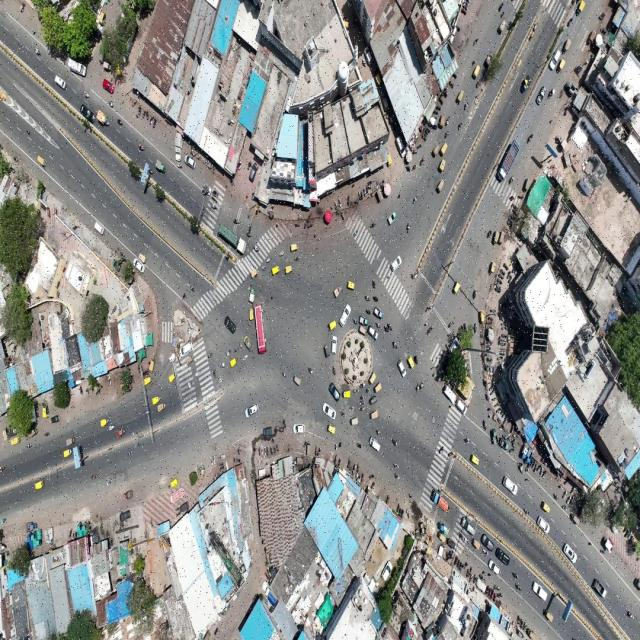3W: (245, 335, 254, 354), (437, 115, 447, 130), (270, 263, 281, 276), (292, 374, 303, 387), (488, 260, 497, 275), (37, 154, 47, 167), (327, 319, 337, 332), (169, 477, 179, 489), (28, 426, 40, 436), (65, 436, 77, 446), (368, 395, 378, 407), (228, 356, 238, 368), (306, 364, 315, 377), (542, 498, 550, 512), (432, 144, 440, 158), (498, 20, 506, 34), (369, 370, 377, 384), (138, 250, 149, 260), (62, 448, 73, 458), (327, 423, 336, 435), (447, 539, 456, 551), (348, 280, 357, 292), (545, 612, 554, 624), (499, 230, 507, 243), (157, 404, 167, 414), (342, 390, 351, 401), (370, 409, 379, 420), (42, 406, 49, 420), (247, 308, 254, 322), (454, 280, 461, 294), (291, 240, 299, 252), (457, 86, 463, 102), (493, 230, 499, 246), (374, 382, 382, 394), (406, 357, 414, 369), (324, 342, 330, 358), (149, 361, 156, 374), (439, 159, 446, 172), (10, 437, 20, 446), (167, 372, 176, 382), (350, 416, 359, 426), (250, 267, 258, 278), (33, 480, 44, 488), (472, 455, 479, 467), (360, 324, 367, 336), (100, 418, 109, 427), (142, 378, 152, 386), (441, 142, 447, 155), (566, 37, 572, 50), (437, 533, 444, 544), (152, 395, 160, 404), (439, 179, 445, 191), (560, 58, 565, 72), (475, 65, 479, 78), (285, 266, 292, 273), (408, 490, 413, 499)
Bus: (253, 306, 268, 354)
Cars: (532, 578, 548, 604), (479, 532, 496, 555), (562, 541, 578, 563), (460, 512, 475, 535), (536, 515, 552, 535), (80, 105, 96, 124), (456, 397, 469, 417), (497, 543, 510, 563), (178, 340, 194, 356), (339, 304, 351, 325), (535, 83, 547, 104), (328, 382, 341, 401), (550, 48, 561, 70), (504, 474, 516, 494), (102, 77, 114, 96), (390, 254, 402, 273), (90, 222, 106, 236), (322, 403, 336, 419), (330, 335, 341, 355), (224, 316, 236, 334), (445, 384, 455, 405), (368, 437, 382, 451), (245, 403, 258, 418), (395, 360, 406, 377), (132, 261, 146, 274), (292, 421, 306, 434), (368, 326, 378, 342), (185, 155, 195, 169), (50, 414, 61, 425), (188, 281, 195, 293)
LCV: (432, 488, 450, 513), (592, 578, 606, 598), (174, 134, 182, 162), (440, 522, 450, 539), (154, 157, 165, 171), (122, 488, 134, 500), (332, 286, 344, 298), (114, 428, 127, 437), (500, 436, 509, 449), (359, 316, 369, 326), (250, 287, 256, 303), (26, 522, 38, 530), (389, 212, 397, 222), (374, 308, 382, 318)
M2W: (442, 127, 452, 140), (509, 567, 520, 578), (34, 45, 42, 58), (339, 408, 347, 420), (330, 362, 338, 374), (393, 458, 400, 471), (549, 87, 556, 100), (481, 418, 488, 431), (83, 88, 92, 98), (456, 122, 465, 132), (627, 610, 635, 621), (90, 472, 97, 484), (527, 131, 534, 143), (260, 263, 267, 275), (136, 144, 145, 153), (193, 371, 203, 379), (415, 380, 421, 393), (352, 228, 359, 239), (525, 509, 532, 520), (105, 479, 112, 490), (517, 463, 524, 474), (364, 291, 370, 303), (281, 371, 289, 380), (406, 222, 412, 234), (206, 349, 213, 359), (392, 437, 399, 447), (464, 435, 471, 445), (472, 36, 479, 46), (471, 288, 478, 298), (356, 439, 363, 449), (226, 348, 232, 359), (498, 0, 504, 11), (509, 174, 514, 187), (370, 220, 378, 228), (127, 448, 135, 456), (370, 280, 377, 289), (218, 376, 225, 385), (0, 466, 9, 473), (517, 192, 524, 201), (348, 404, 355, 413), (44, 430, 50, 440), (238, 340, 244, 350), (375, 428, 381, 438), (254, 244, 260, 254), (413, 193, 418, 205), (464, 100, 470, 110), (247, 231, 253, 241), (248, 279, 254, 289), (279, 247, 285, 257), (295, 252, 300, 264), (242, 353, 248, 363), (460, 528, 465, 540), (446, 113, 451, 125), (366, 385, 372, 395), (210, 369, 218, 376), (394, 472, 401, 480), (25, 128, 32, 136), (376, 319, 381, 330), (414, 354, 419, 365), (20, 4, 26, 13), (438, 446, 444, 455), (233, 344, 239, 353), (448, 319, 454, 328), (148, 166, 154, 175), (421, 156, 426, 166), (144, 409, 151, 416), (372, 295, 379, 302), (210, 202, 217, 209), (392, 341, 398, 349), (383, 325, 389, 333), (426, 327, 432, 335), (176, 163, 182, 171), (388, 321, 393, 330), (187, 380, 193, 387), (108, 425, 115, 431), (26, 443, 33, 449), (220, 361, 227, 367), (232, 217, 238, 224), (508, 194, 514, 201), (352, 388, 359, 394), (359, 400, 365, 407), (488, 228, 492, 238), (353, 318, 358, 326), (360, 407, 366, 413), (421, 381, 426, 388), (361, 382, 366, 388), (361, 393, 366, 399)
MAV: (217, 219, 246, 254), (498, 138, 520, 183)
